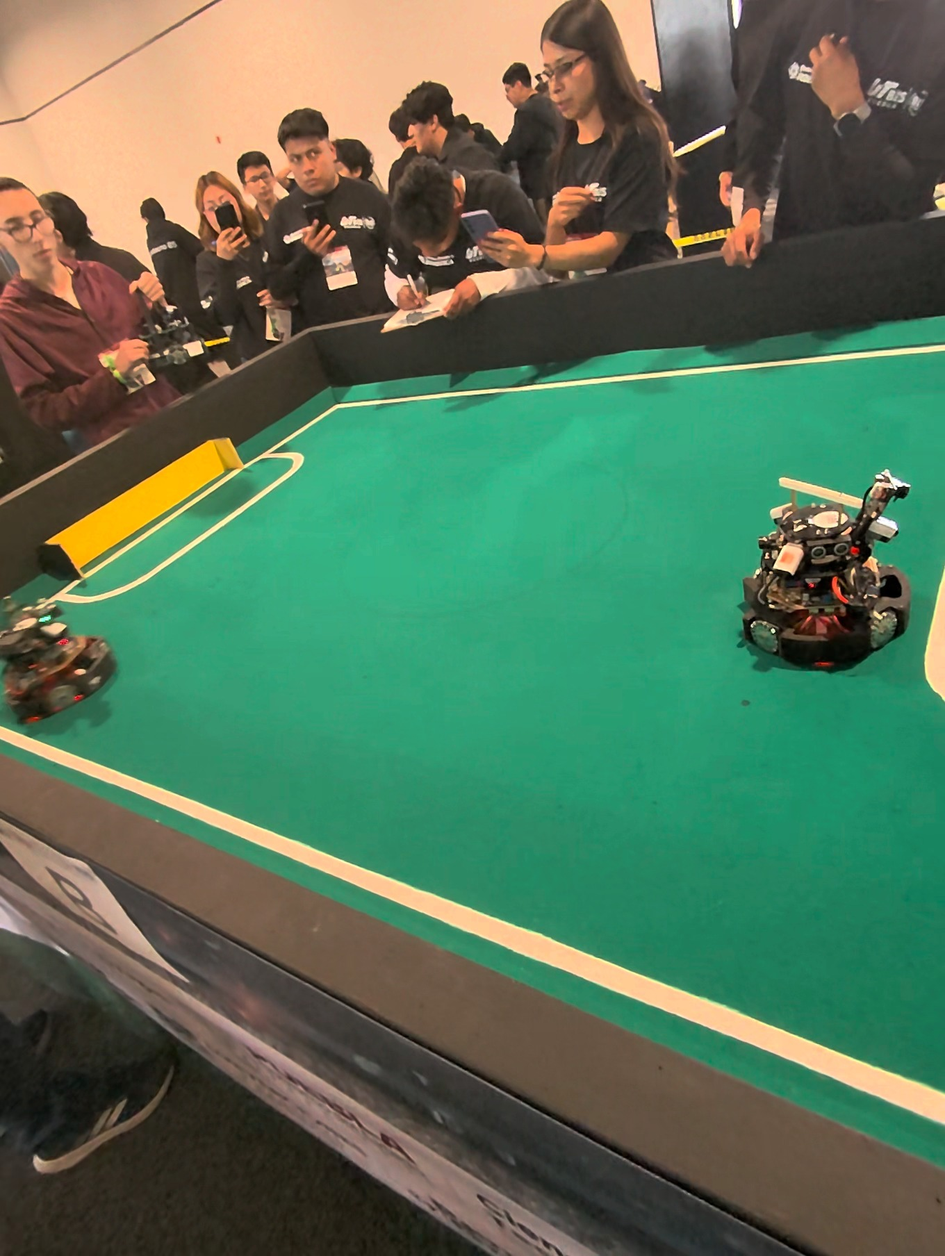Robot: (743, 447, 906, 681), (0, 587, 120, 727)
